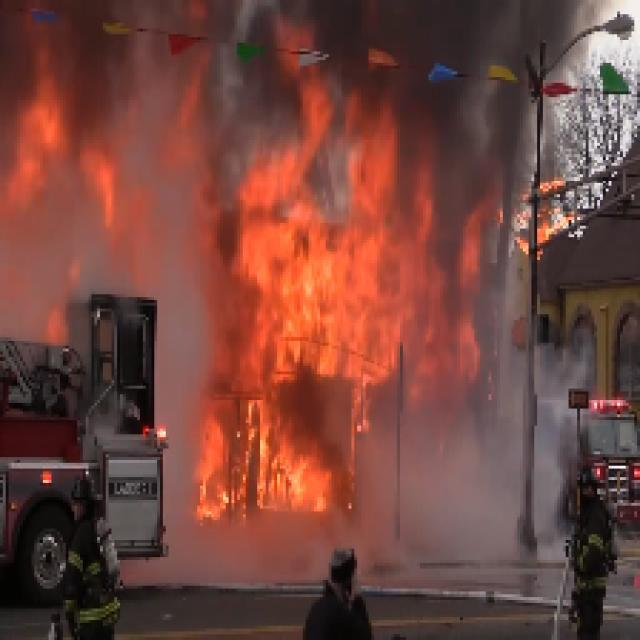Fire: (242, 208, 379, 514)
Smoke: (360, 0, 548, 163)
